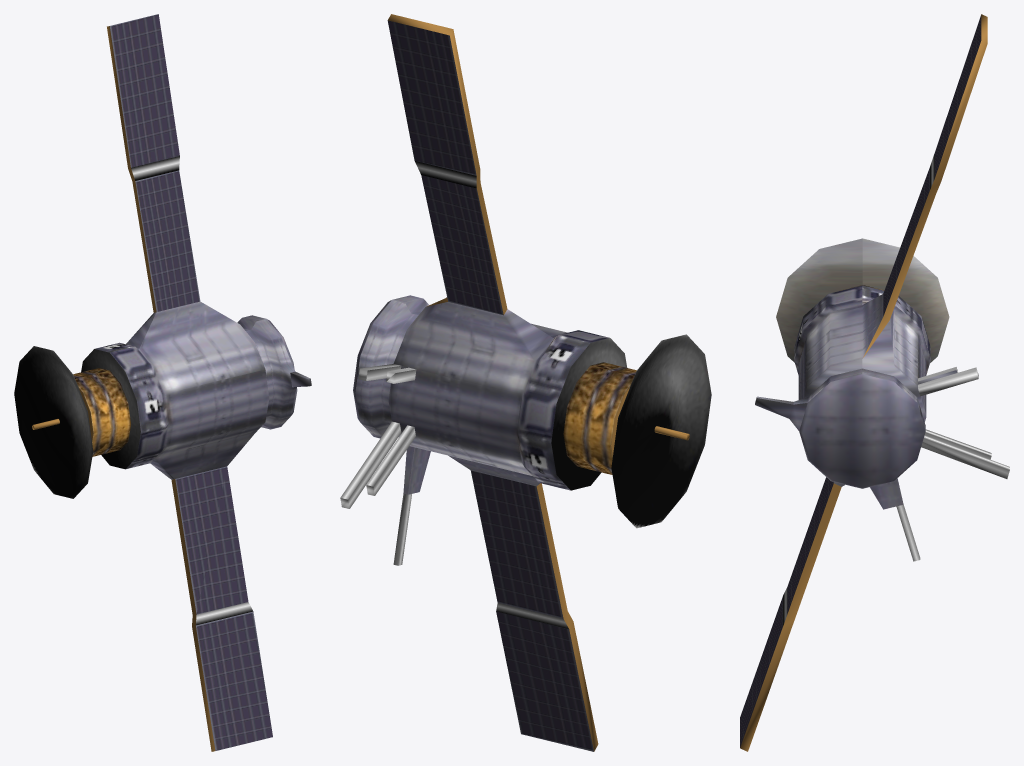
Rendered from satellite.fbx.
3 renders of one model, left to right at view 1: azimuth 30°, elevation 25°; view 2: azimuth 150°, elevation 25°; view 3: azimuth 270°, elevation 25°, orthographic. The views are drawn at different scales.
Parts seen in each view (by area): view 1: U3DMesh; view 2: U3DMesh; view 3: U3DMesh.
Part boxes in pixels (x1,y1,x2,y2): U3DMesh: (14,14,311,751); U3DMesh: (340,14,711,751); U3DMesh: (740,14,1009,751).
Size of the model in its own units: 185 by 482 by 166.
Materials: 1 (1 with a texture image).
